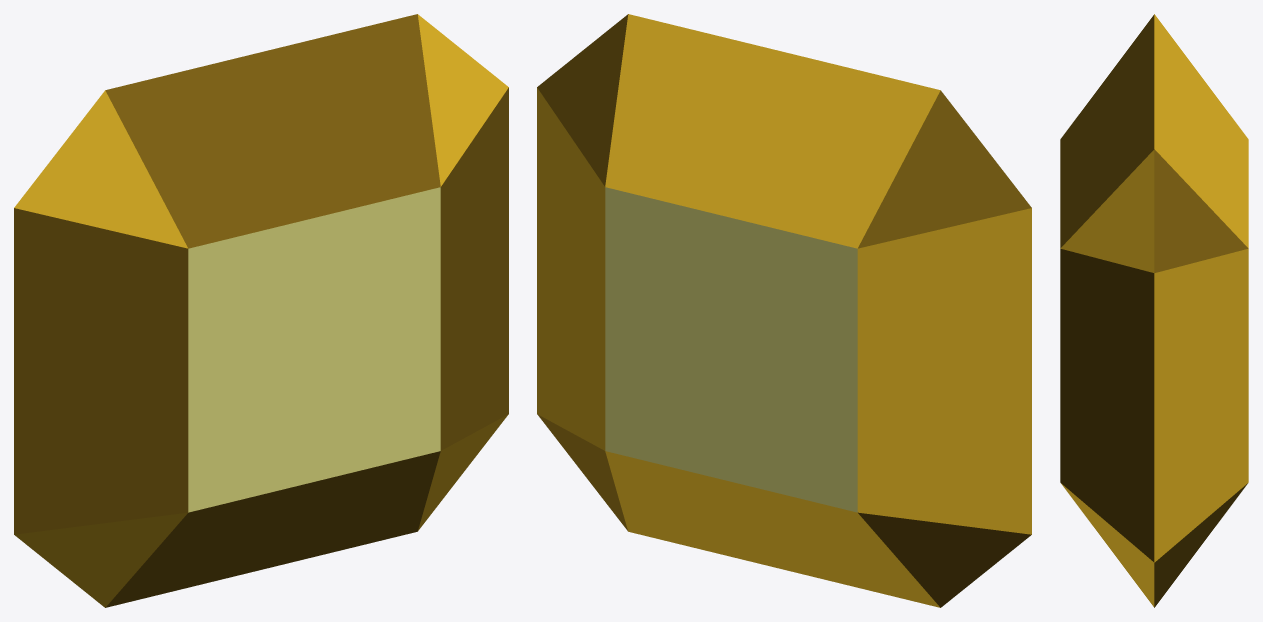
The model's file is Jewel_B.fbx.
The picture shows the model from 3 angles, left to right: view 1: azimuth 30°, elevation 25°; view 2: azimuth 150°, elevation 25°; view 3: azimuth 270°, elevation 25°; orthographic projection. The views are drawn at different scales.
Parts seen in each view (by area): view 1: Jewel_B; view 2: Jewel_B; view 3: Jewel_B.
Boxes of the visible parts, x1,y1,x2,y2 form: Jewel_B: [14, 14, 508, 607]; Jewel_B: [537, 14, 1031, 607]; Jewel_B: [1060, 14, 1248, 607].
Size of the model in its own units: 0.2061 by 0.206 by 0.0766.
